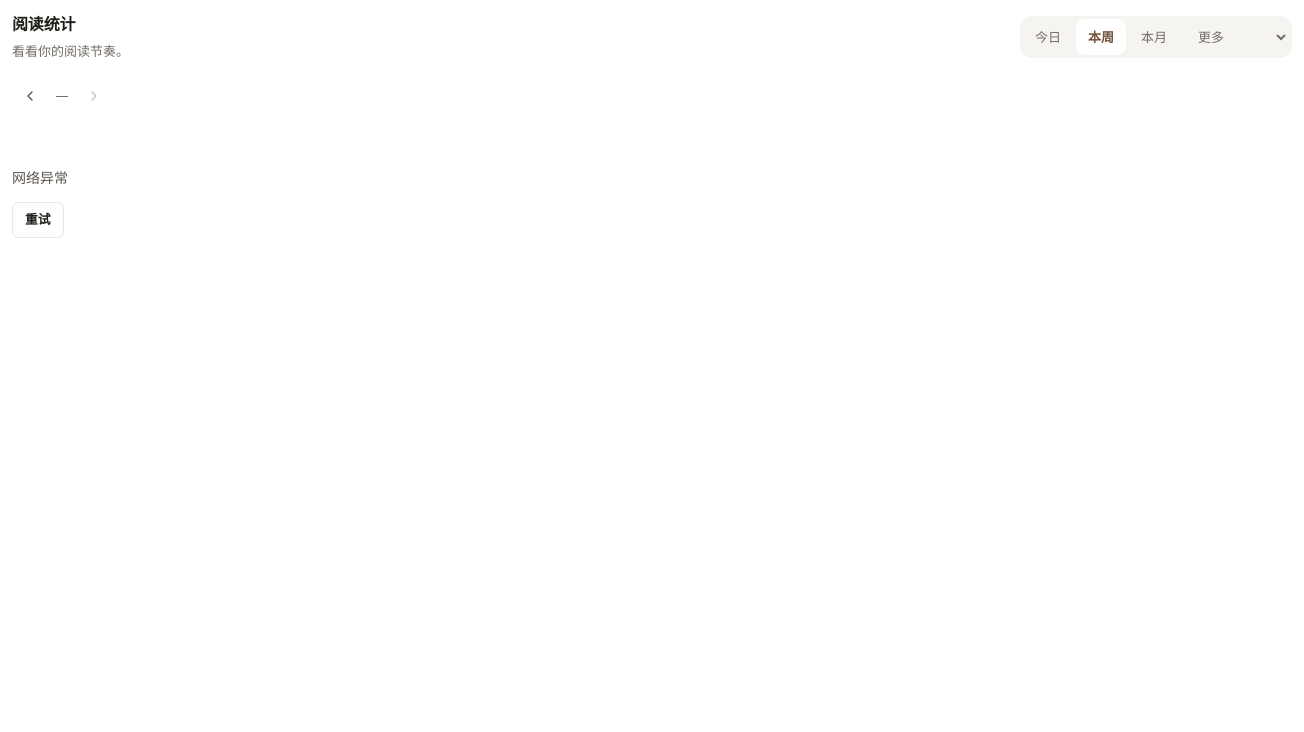
it: distinguishes failed requests from zero reading and permits retry
The width and height of the screenshot is (1304, 732).
Expected: the message "网络异常 重试" is shown, [12, 170, 68, 238]
Click the button "重试" at point(38, 220), box [12, 202, 64, 238]
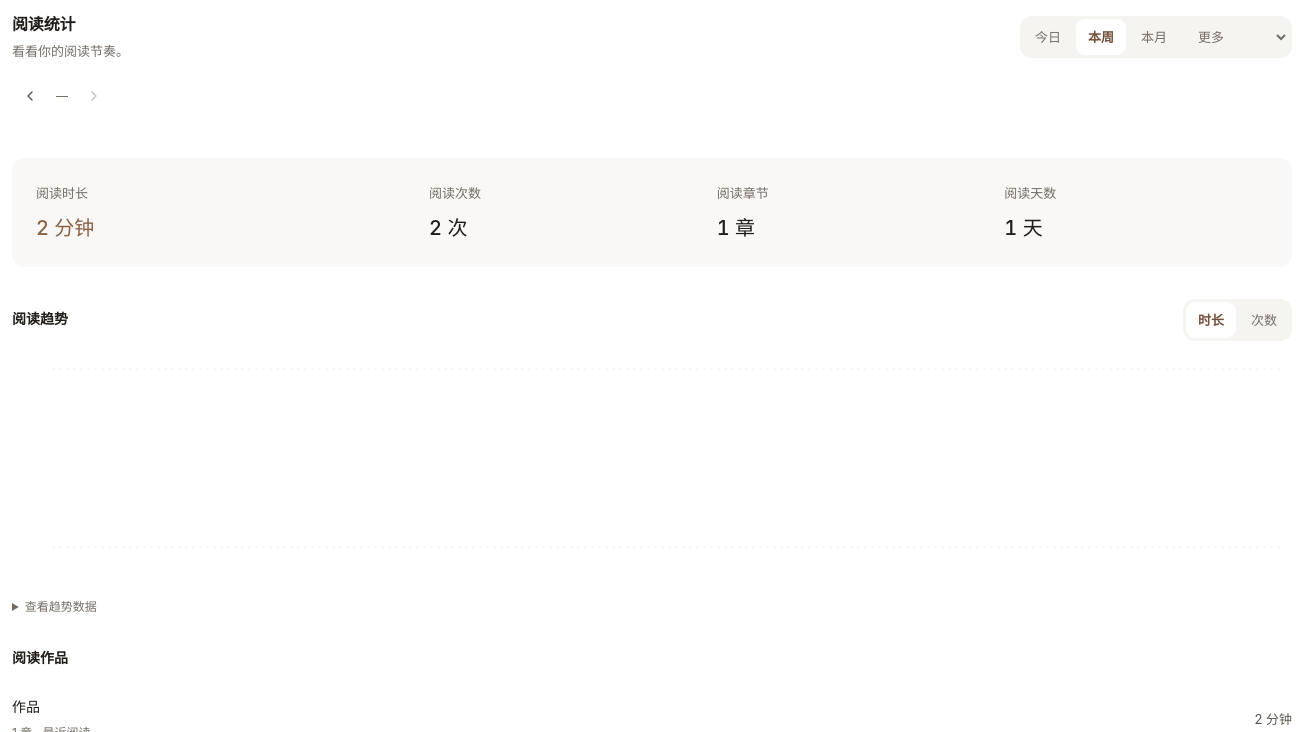
Now the link "作品" is shown, box [12, 698, 40, 715]
